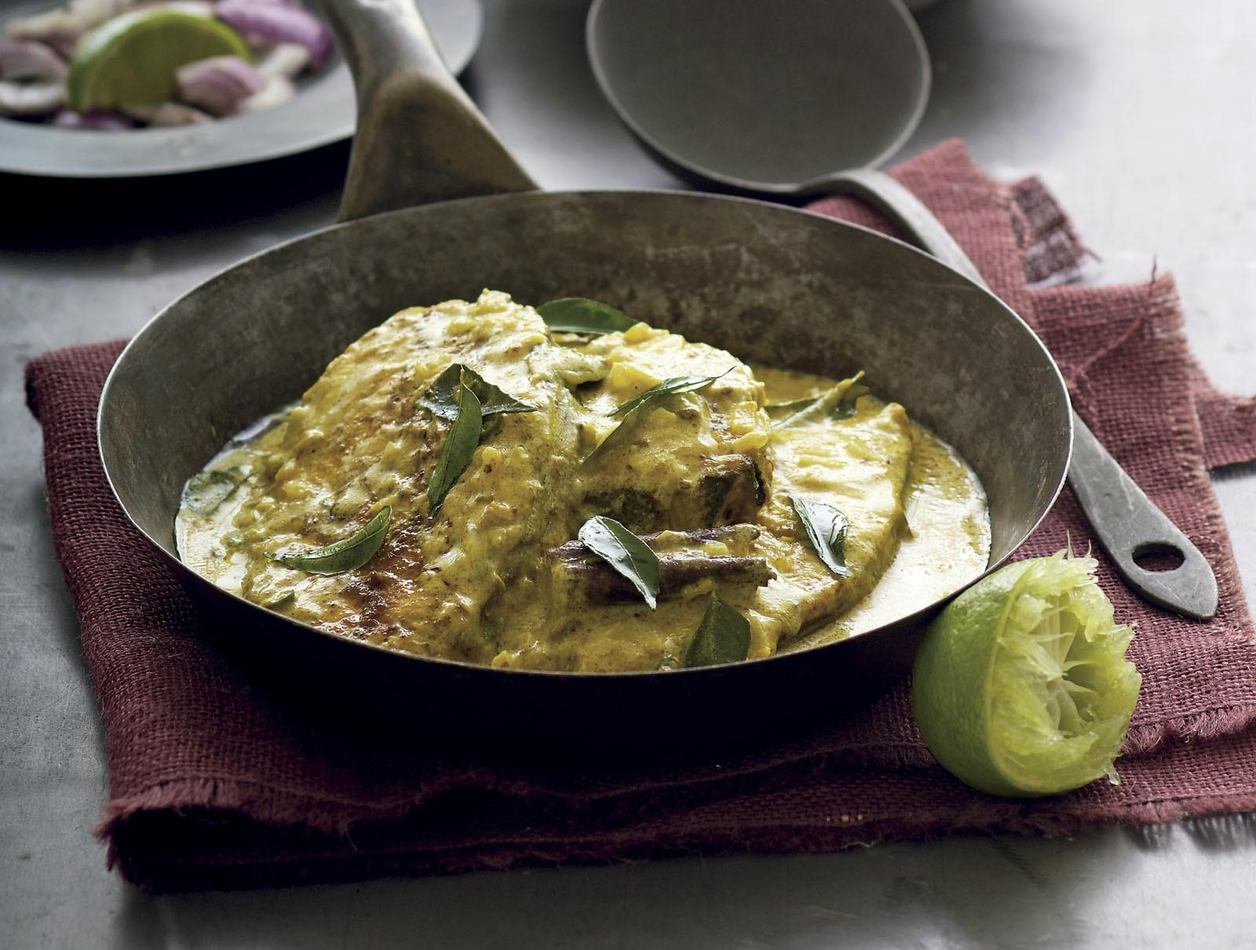FishCurry: (171, 278, 995, 669)
